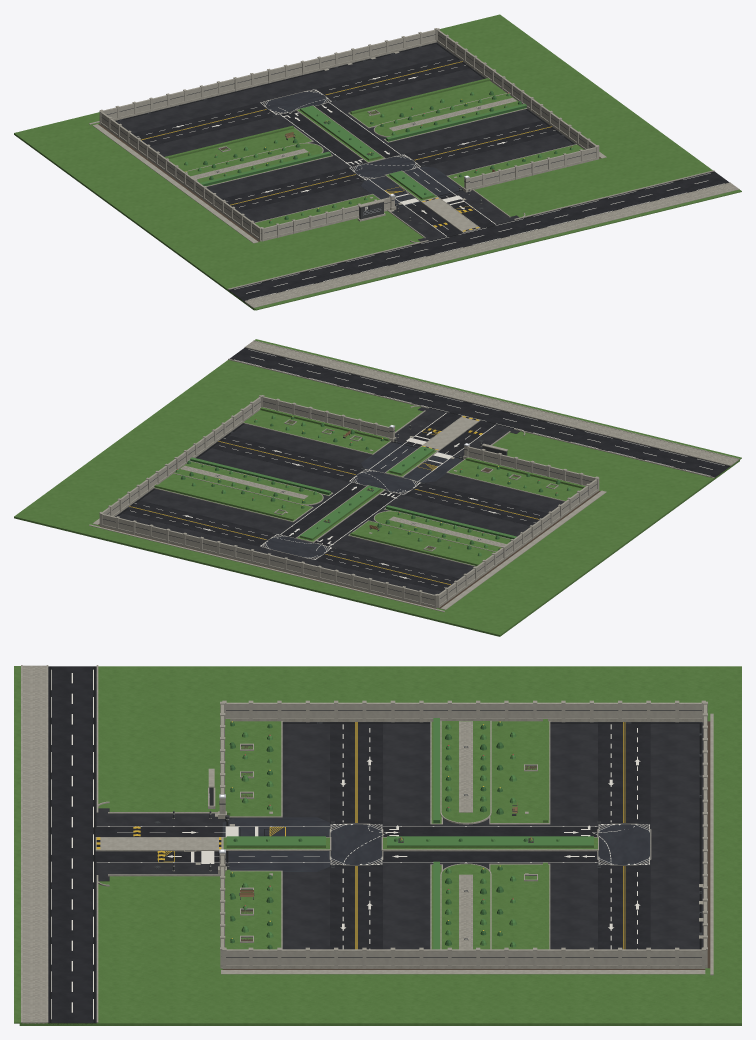
The model's file is lot_shell.glb.
3 views of the same model, one above another, from view 1: azimuth 30°, elevation 25°; view 2: azimuth 150°, elevation 25°; view 3: azimuth 270°, elevation 25° (orthographic). The views are drawn at different scales.
Parts seen in each view (by area): view 1: Shell_Ground, Shell_Pavement, Shell_Walls, Shell_Islands, Shell_Roads, Shell_Curbs, Shell_Markings, Shell_Median, Shell_Decor; view 2: Shell_Ground, Shell_Pavement, Shell_Islands, Shell_Walls, Shell_Roads, Shell_Curbs, Shell_Markings, Shell_Median; view 3: Shell_Ground, Shell_Pavement, Shell_Islands, Shell_Walls, Shell_Roads, Shell_Curbs, Shell_Median, Shell_Markings, Shell_Decor.
Boxes of the visible parts, <box> form: Shell_Ground: <box>14,14,741,310</box>; Shell_Pavement: <box>115,42,575,236</box>; Shell_Walls: <box>99,28,599,241</box>; Shell_Islands: <box>164,78,583,227</box>; Shell_Roads: <box>229,171,729,302</box>; Shell_Curbs: <box>184,90,739,307</box>; Shell_Markings: <box>137,59,724,299</box>; Shell_Median: <box>297,106,479,231</box>; Shell_Decor: <box>115,43,574,233</box>; Shell_Ground: <box>14,339,741,636</box>; Shell_Pavement: <box>115,413,564,594</box>; Shell_Islands: <box>154,407,585,566</box>; Shell_Walls: <box>99,395,599,608</box>; Shell_Roads: <box>229,347,730,477</box>; Shell_Curbs: <box>154,340,739,566</box>; Shell_Markings: <box>129,349,724,587</box>; Shell_Median: <box>297,416,478,541</box>; Shell_Ground: <box>14,665,741,1025</box>; Shell_Pavement: <box>96,722,703,949</box>; Shell_Islands: <box>225,718,549,949</box>; Shell_Walls: <box>208,700,707,968</box>; Shell_Roads: <box>48,666,222,1024</box>; Shell_Curbs: <box>21,665,651,1022</box>; Shell_Median: <box>96,836,597,849</box>; Shell_Markings: <box>51,669,649,1019</box>; Shell_Decor: <box>108,722,701,949</box>.
Size of the model in its own units: 104 by 3.34 by 89.7.
24 materials, 8 textured.
